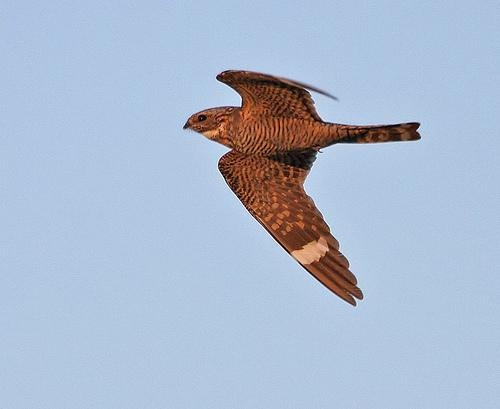bird: (184, 65, 419, 302)
